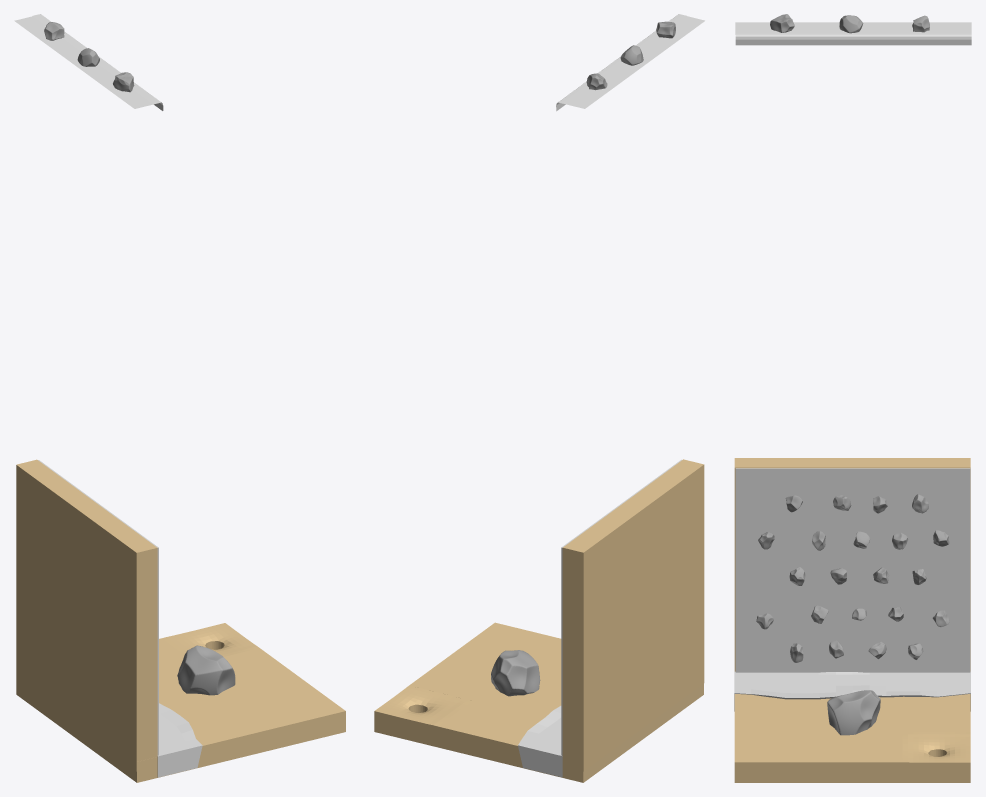
3 views of the same model, side by side, from view 1: azimuth 30°, elevation 25°; view 2: azimuth 150°, elevation 25°; view 3: azimuth 270°, elevation 25° (orthographic). The views are drawn at different scales.
Visible parts, largest first — view 1: Cube.001, Cube.002, Plane.003, Icosphere.020, Plane, Plane.002, Plane.001; view 2: Cube.001, Cube.002, Plane.003, Icosphere.020, Plane, Plane.002, Plane.001; view 3: Plane.001, Cube.002, Plane.003, Icosphere.023, Plane.002, Cube.001, Icosphere.020, Plane.
Boxes of the visible parts, x1,y1,x2,y2 form: Cube.001: (16,459,157,771); Cube.002: (16,623,345,782); Plane.003: (157,703,202,777); Icosphere.020: (177,645,235,695); Plane: (14,16,160,108); Plane.002: (32,14,163,110); Plane.001: (38,460,158,755); Cube.001: (562,459,704,771); Cube.002: (374,622,703,782); Plane.003: (518,706,562,777); Icosphere.020: (491,650,540,696); Plane: (559,16,704,108); Plane.002: (556,14,686,111); Plane.001: (561,459,681,755); Plane.001: (735,468,970,672); Cube.002: (734,694,970,782); Plane.003: (734,671,970,711); Icosphere.023: (756,494,949,662); Plane.002: (735,30,971,45); Cube.001: (734,458,970,671); Icosphere.020: (827,690,880,735); Plane: (735,22,971,34).
Size of the model in its own units: 505 by 1573 by 503.
